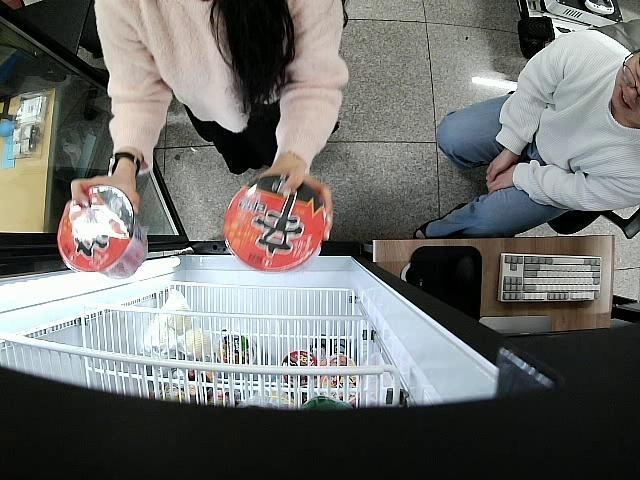01_ShinRamen_L: (224, 173, 326, 272), (58, 183, 148, 280)
